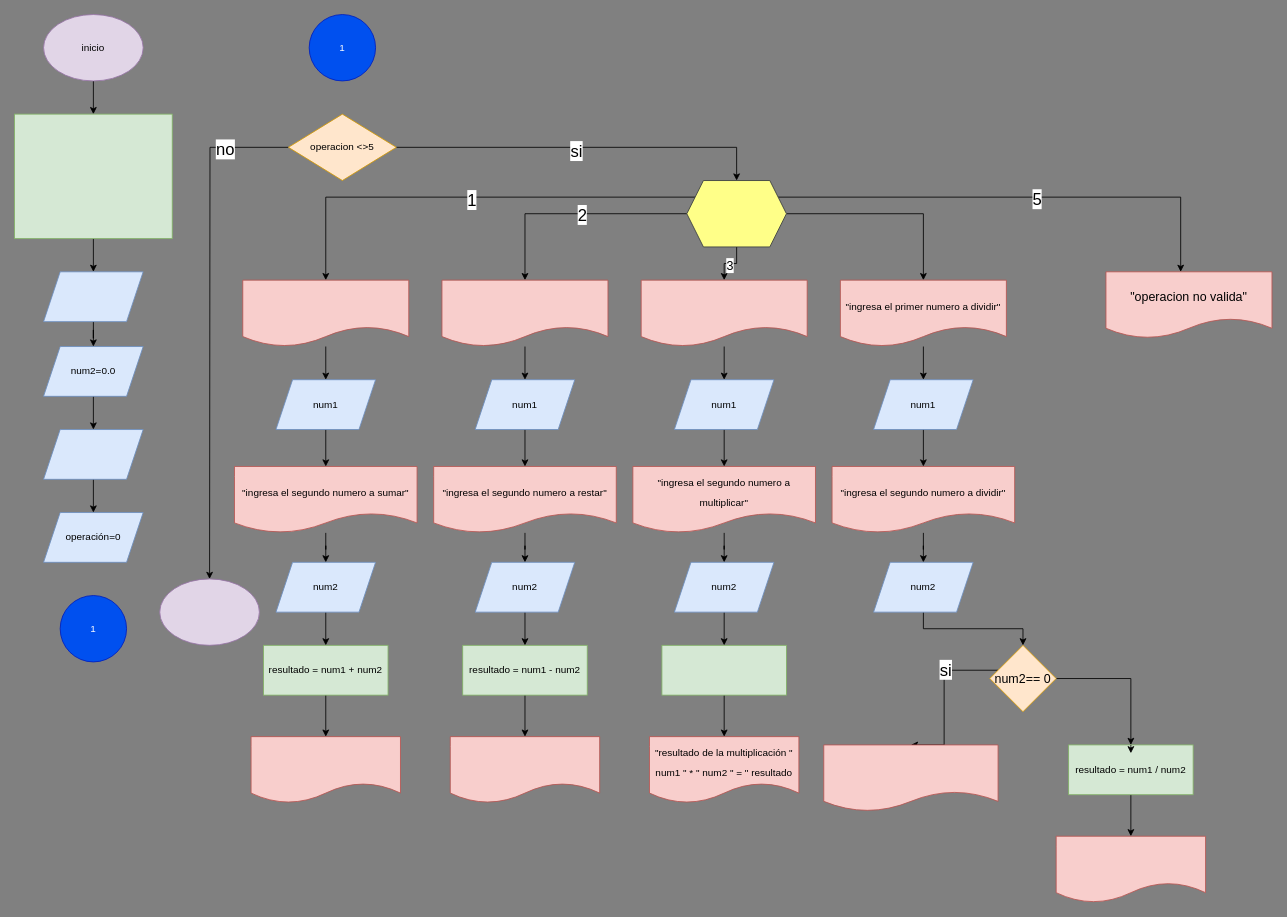
Image size: 1287x917. Some labels were removed from this diagram. Each missing label, with the box of its shape:
"ingresa el primer numero a multiplicar": (640, 279, 807, 347)
"ingresa el primer numero a restar": (441, 279, 608, 347)
"ingresa el primer numero a sumar": (242, 279, 409, 347)
"operacion no valida con numero 0": (823, 744, 998, 811)
"resultado de la división " num1 " / " num2 " = " resultado: (1055, 835, 1206, 903)
"resultado de la resta " num1 " - " num2 " = " resultado: (449, 736, 600, 803)
"resultado de la suma " num1 " + " num2 " = " resultado: (250, 736, 400, 803)
declarar num1(float), num2(float), resultado(float), operacion(int): (14, 113, 172, 239)
fin: (159, 578, 259, 645)
num1=0.0: (43, 271, 143, 322)
operacion: (686, 180, 786, 247)
resultado = num1 * num2: (661, 644, 786, 695)
resultado=0.0: (43, 429, 143, 479)
